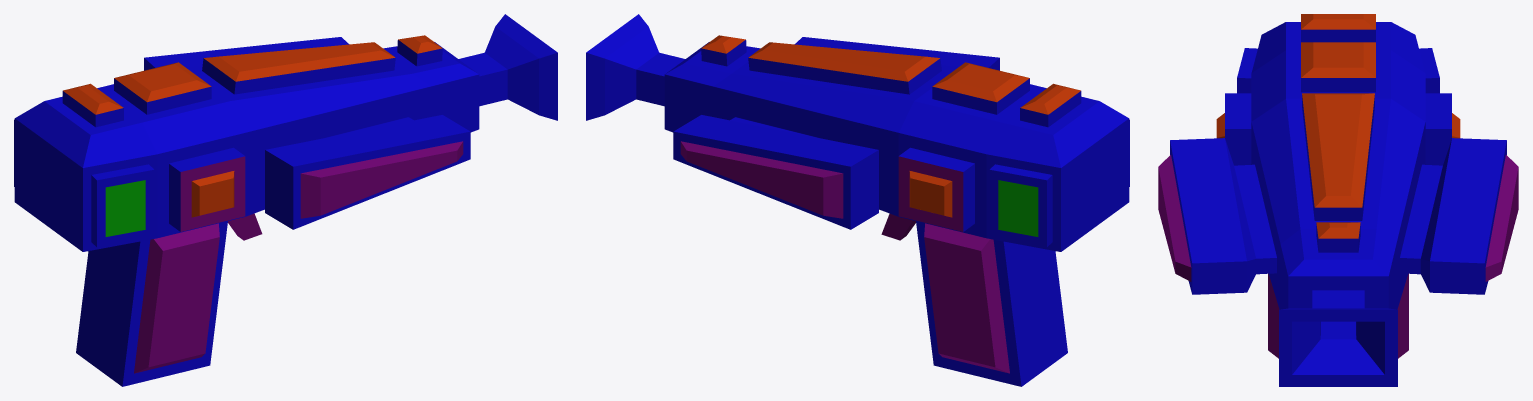
Rendered from blaster.obj.
3 renders of one model, left to right at view 1: azimuth 30°, elevation 25°; view 2: azimuth 150°, elevation 25°; view 3: azimuth 270°, elevation 25°, orthographic. The views are drawn at different scales.
Visible parts, largest first — view 1: Cube; view 2: Cube; view 3: Cube.
Part boxes in pixels (<box>): Cube: <box>14,14,557,386</box>; Cube: <box>586,14,1129,386</box>; Cube: <box>1158,14,1518,386</box>.
Size of the model in its own units: 1 by 0.548 by 0.572.
